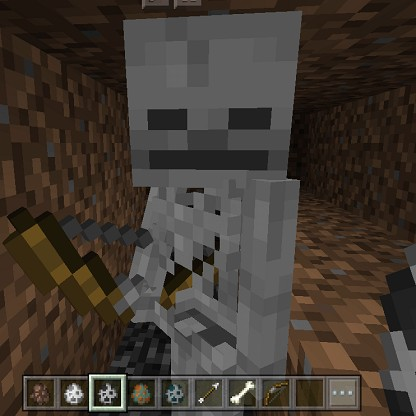skeleton: (115, 8, 314, 368)
